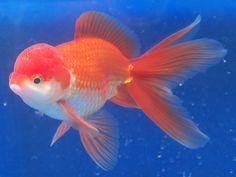goldfish: (8, 11, 229, 167)
